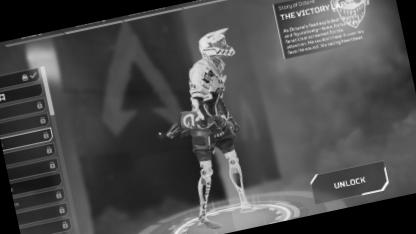Target: (164, 18, 259, 184)
